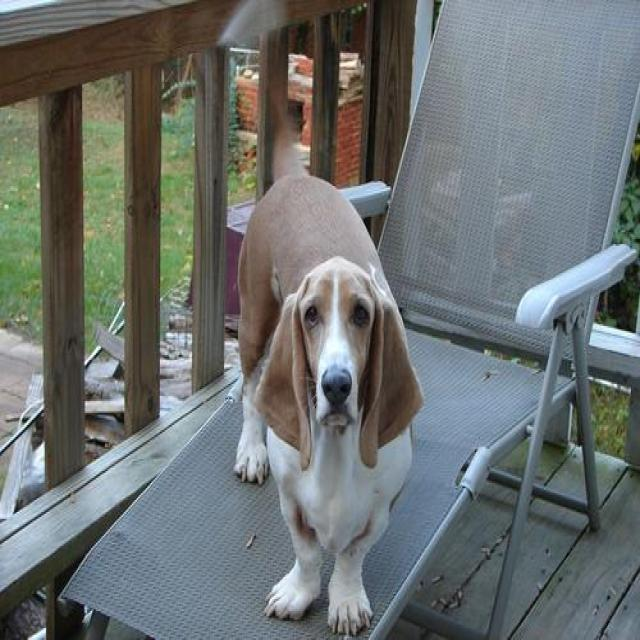basset: (234, 173, 424, 636)
